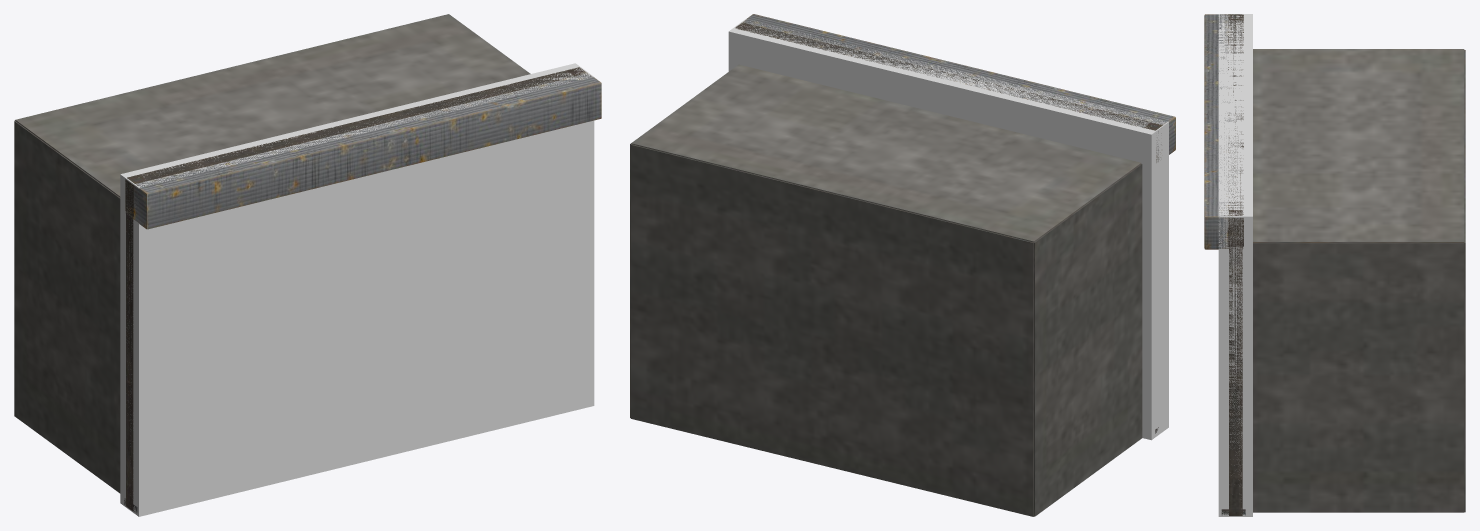
Rendered from sf06_front.gltf.
3 views of the same model, side by side, from view 1: azimuth 30°, elevation 25°; view 2: azimuth 150°, elevation 25°; view 3: azimuth 270°, elevation 25° (orthographic). The views are drawn at different scales.
Visible parts, largest first — view 1: sf06_front_COL, sf06_front_LOD0; view 2: sf06_front_LOD0, sf06_front_COL; view 3: sf06_front_LOD0, sf06_front_COL.
Boxes of the visible parts, bbox=[...] form: sf06_front_COL: bbox=[120, 63, 594, 516]; sf06_front_LOD0: bbox=[14, 14, 601, 513]; sf06_front_LOD0: bbox=[630, 14, 1175, 516]; sf06_front_COL: bbox=[728, 19, 1168, 440]; sf06_front_LOD0: bbox=[1204, 14, 1465, 515]; sf06_front_COL: bbox=[1218, 14, 1252, 516].
Size of what is drawn, in the model's own units: 4.2 by 2.9 by 2.28.
Materials: 1 (1 with a texture image).
